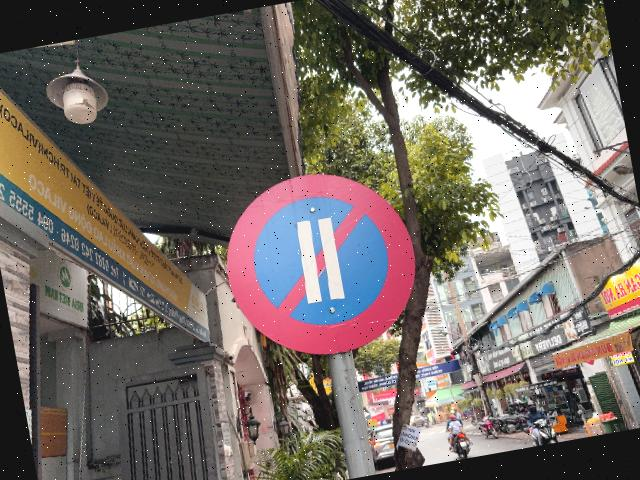cam-do-xe-ngay-chan: (212, 156, 430, 368)
